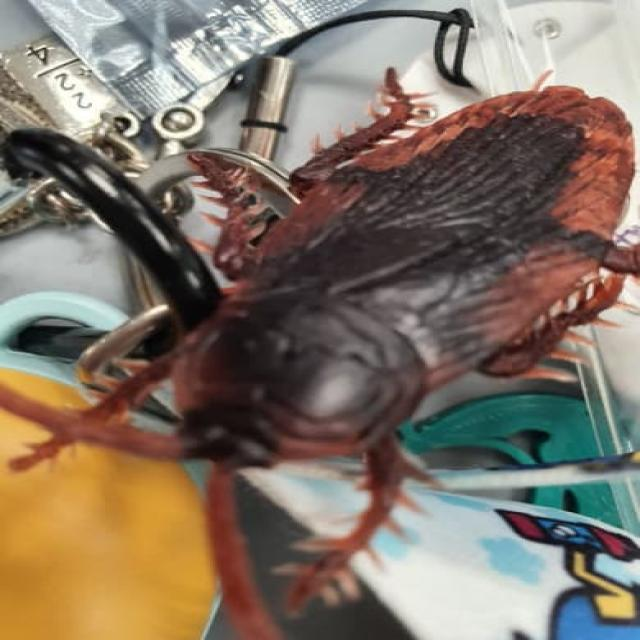Cockroach: (105, 54, 640, 576)
